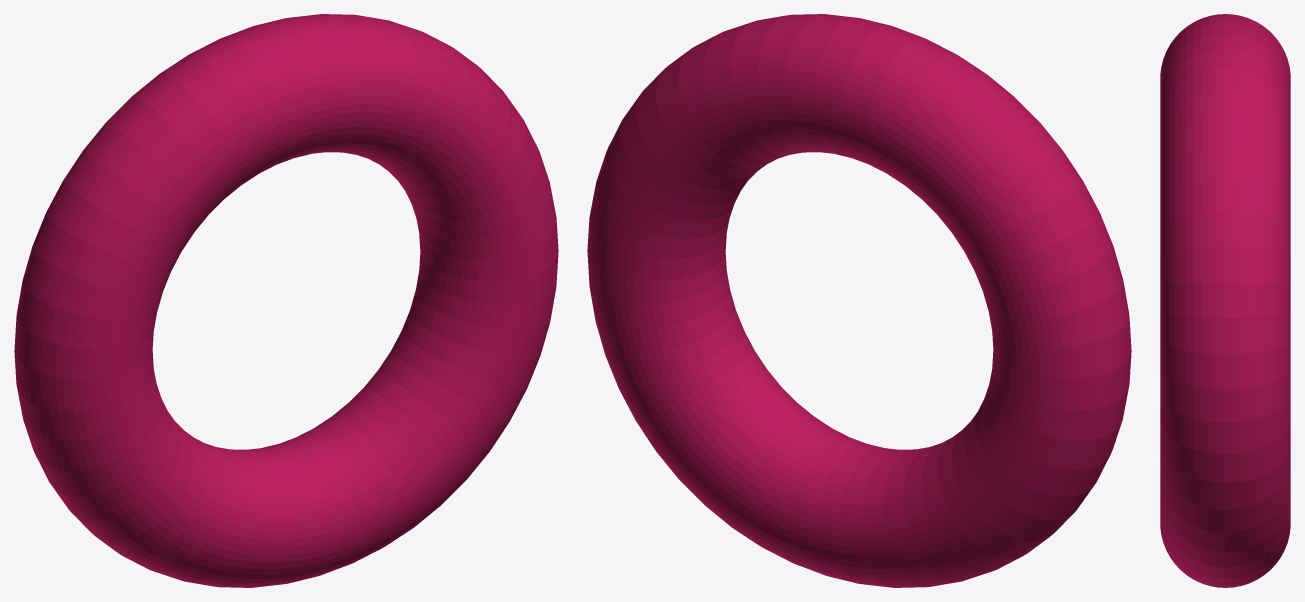
3 views of the same model, side by side, from view 1: azimuth 30°, elevation 25°; view 2: azimuth 150°, elevation 25°; view 3: azimuth 270°, elevation 25° (orthographic). The views are drawn at different scales.
Parts seen in each view (by area): view 1: world; view 2: world; view 3: world.
Part boxes in pixels (box(x1,y1,x2,y2)): world: box(14, 14, 558, 587); world: box(587, 14, 1131, 587); world: box(1160, 14, 1290, 587).
Bounding box in the file's own units: 34.53 × 34.47 × 7.85.
